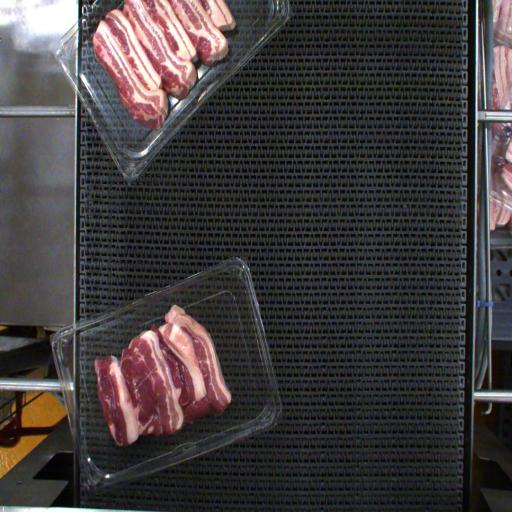packaging-error: (122, 335, 185, 392)
